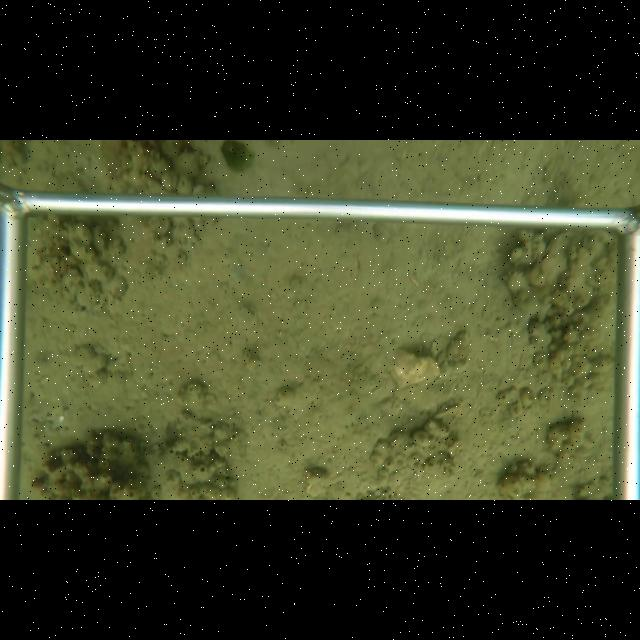Oyster-Closed: (530, 231, 578, 288), (385, 347, 443, 394)
